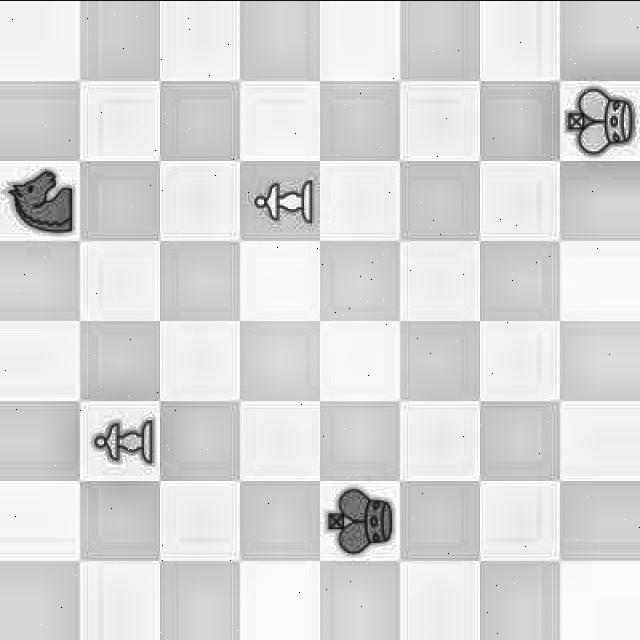Black Knight: (3, 163, 79, 236)
black king: (325, 480, 399, 558)
white king: (563, 88, 640, 160)
white pawn: (238, 158, 326, 238), (75, 402, 161, 478)
